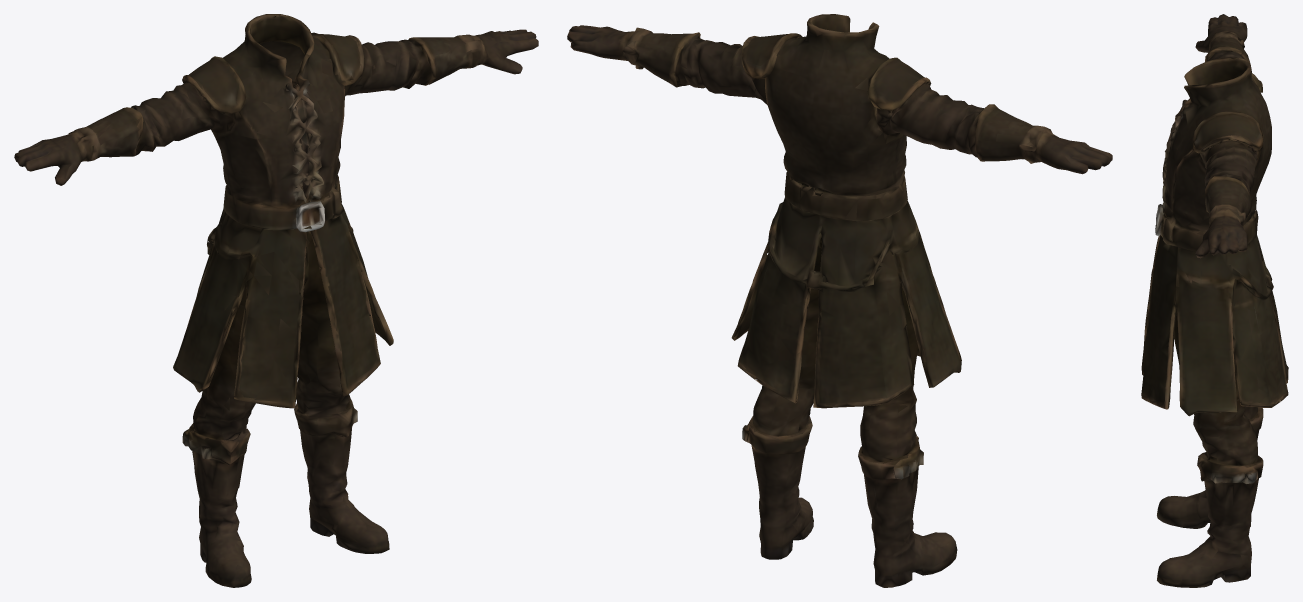
Rendered from stalker-leathers-20k-v1.glb.
3 renders of one model, left to right at view 1: azimuth 30°, elevation 25°; view 2: azimuth 150°, elevation 25°; view 3: azimuth 270°, elevation 25°, orthographic. The views are drawn at different scales.
Parts seen in each view (by area): view 1: stalker-leathers-v2-20k-pre; view 2: stalker-leathers-v2-20k-pre; view 3: stalker-leathers-v2-20k-pre.
Boxes of the visible parts, <box> form: stalker-leathers-v2-20k-pre: <box>14,14,538,587</box>; stalker-leathers-v2-20k-pre: <box>567,14,1112,587</box>; stalker-leathers-v2-20k-pre: <box>1141,14,1288,587</box>.
Bounding box in the file's own units: 1 × 0.9654 × 0.2654.
Materials: 1 (1 with a texture image).
